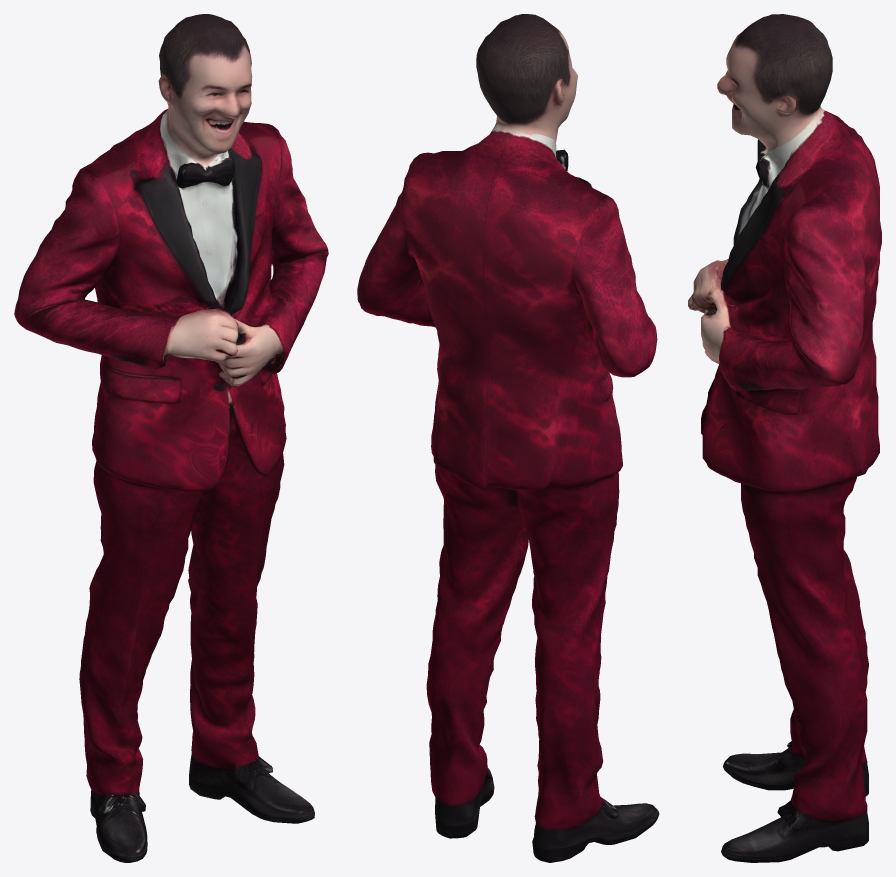
Rendered from TY_Person_0311060936_texture.glb.
The picture shows the model from 3 angles, left to right: view 1: azimuth 30°, elevation 25°; view 2: azimuth 150°, elevation 25°; view 3: azimuth 270°, elevation 25°; orthographic projection.
Parts seen in each view (by area): view 1: Mesh_0; view 2: Mesh_0; view 3: Mesh_0.
Part boxes in pixels (x1=…): Mesh_0: x1=14, y1=14, x2=328, y2=862; Mesh_0: x1=357, y1=14, x2=659, y2=862; Mesh_0: x1=688, y1=14, x2=881, y2=862.
Size of the model in its own units: 0.714 by 1.83 by 0.3983.
1 material, 1 textured.
